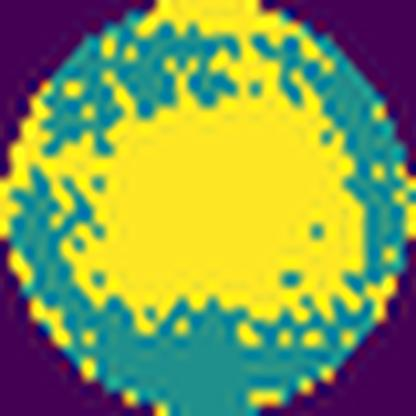Center: (53, 53, 369, 334)
